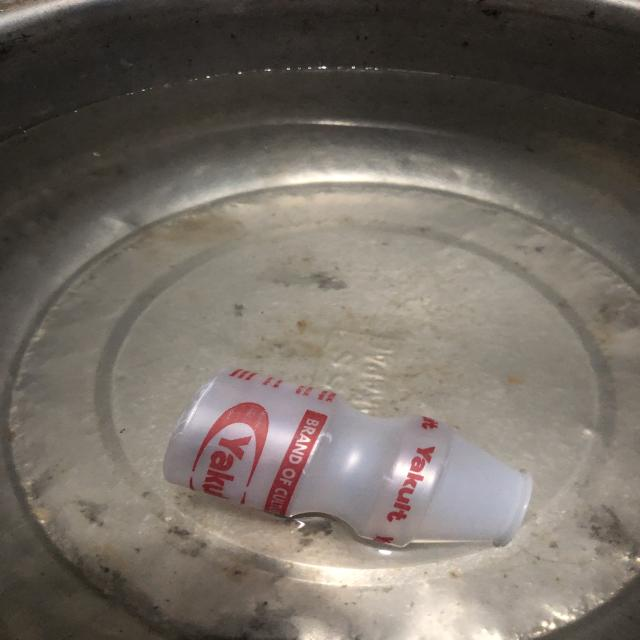Plastic Bottle: (164, 369, 531, 549)
